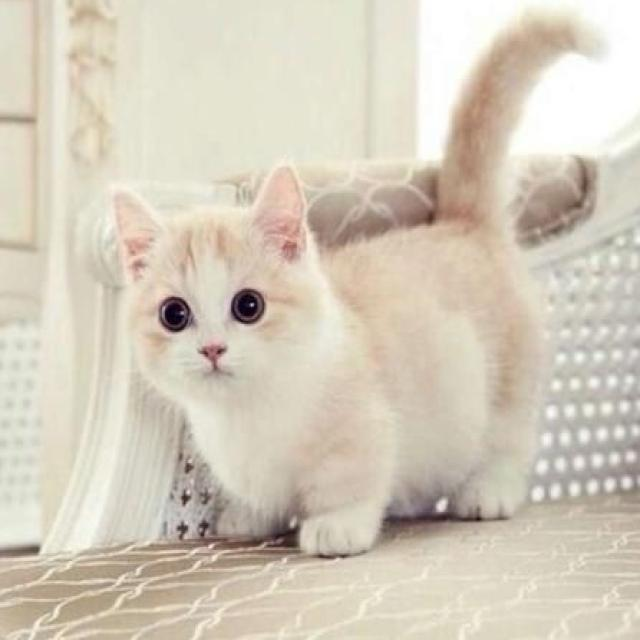Munchkin: (107, 0, 608, 561)
